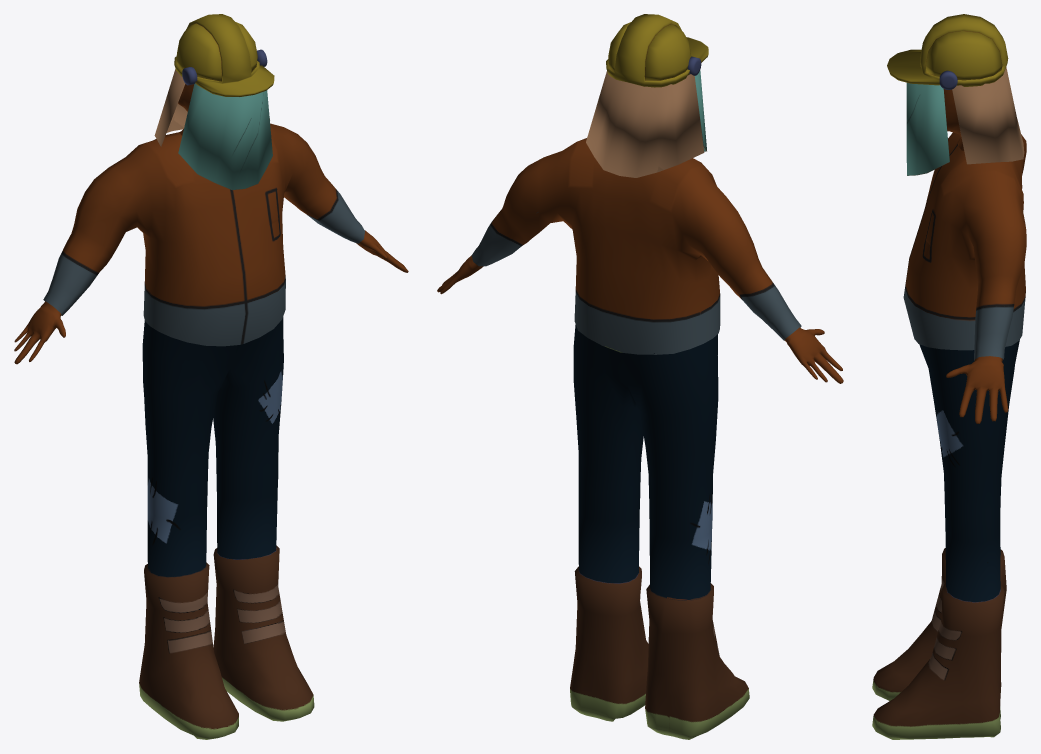
The model's file is Villano.fbx.
3 views of the same model, side by side, from view 1: azimuth 30°, elevation 25°; view 2: azimuth 150°, elevation 25°; view 3: azimuth 270°, elevation 25° (orthographic). The views are drawn at different scales.
Parts seen in each view (by area): view 1: Cuerpo; view 2: Cuerpo; view 3: Cuerpo.
Part boxes in pixels (x1,y1,x2,y2): Cuerpo: [14, 14, 408, 739]; Cuerpo: [437, 14, 843, 739]; Cuerpo: [872, 14, 1026, 739].
Size of the model in its own units: 701 by 1173 by 236.
